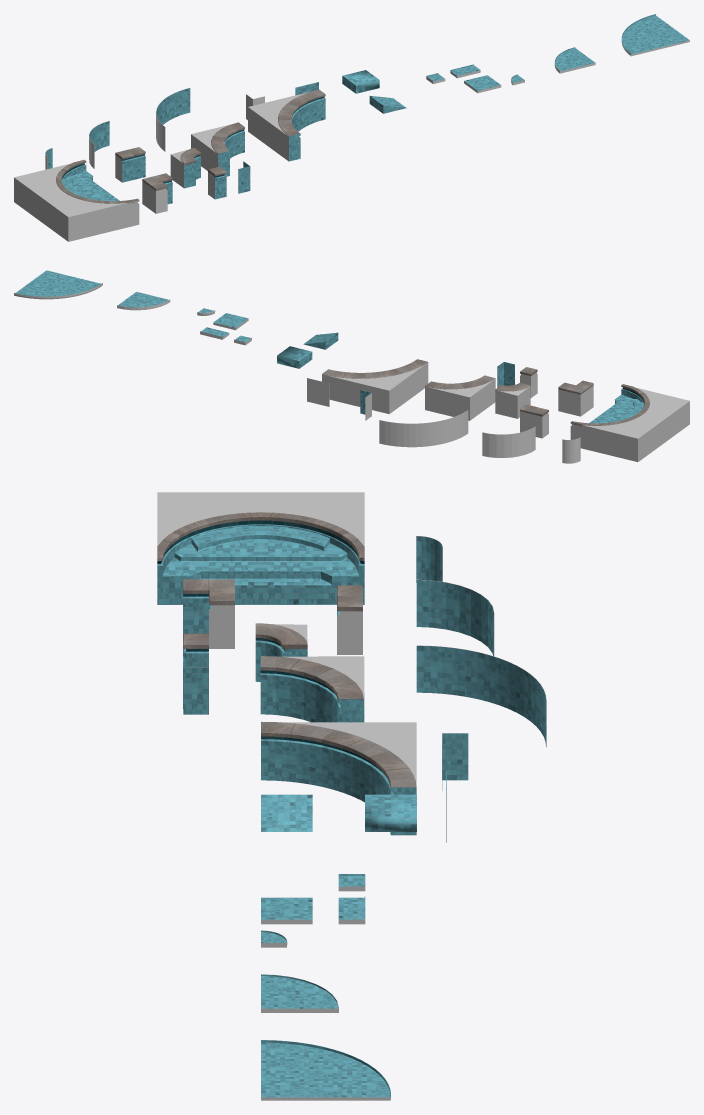
The model's file is mv_pool.fbx.
3 renders of one model, top to bottom at view 1: azimuth 30°, elevation 25°; view 2: azimuth 150°, elevation 25°; view 3: azimuth 270°, elevation 25°, orthographic. The views are drawn at different scales.
Visible parts, largest first — view 1: Swimming Pool Steps, pool corner top 3x3, pool corner bottom 3x3, pool corner top 3x3.001, Swimming Pool Steps Floor, pool corner top 2x2, pool corner side 3x3, Pool Corner Top, pool straight top, pool corner top 2x2.001, pool corner bottom 2x2, pool slide block (+6 smaller); view 2: Swimming Pool Steps, pool corner top 3x3.001, pool corner side 3x3, pool corner top 2x2.001, pool corner bottom 3x3, Swimming Pool Steps Floor, pool corner side 2x2, Pool Corner Top, pool corner top 1x1.001, pool straight top, pool corner top 3x3, pool corner bottom 2x2 (+9 smaller); view 3: Swimming Pool Steps Floor, pool corner top 3x3, pool corner bottom 3x3, pool corner side 3x3, Swimming Pool Steps, pool corner top 2x2, pool corner side 2x2, Pool Corner Top, pool corner bottom 2x2, pool corner top 3x3.001, pool slide, pool slide block (+8 smaller).
Part boxes in pixels (x1,y1,x2,y2): Swimming Pool Steps: (14, 163, 139, 241); pool corner top 3x3: (278, 89, 325, 161); pool corner bottom 3x3: (621, 14, 689, 56); pool corner top 3x3.001: (248, 92, 308, 161); Swimming Pool Steps Floor: (56, 159, 139, 203); pool corner top 2x2: (211, 122, 244, 176); pool corner side 3x3: (156, 88, 190, 151); Pool Corner Top: (142, 173, 172, 213); pool straight top: (115, 147, 145, 182); pool corner top 2x2.001: (191, 124, 229, 170); pool corner bottom 2x2: (554, 47, 595, 73); pool slide block: (342, 70, 379, 93); Swimming Pool Steps: (570, 387, 689, 461); pool corner top 3x3.001: (322, 362, 428, 414); pool corner side 3x3: (379, 410, 468, 447); pool corner top 2x2.001: (425, 379, 495, 420); pool corner bottom 3x3: (14, 270, 102, 299); Swimming Pool Steps Floor: (570, 384, 649, 426); pool corner side 2x2: (482, 426, 535, 457); Pool Corner Top: (558, 380, 593, 416); pool corner top 1x1.001: (495, 386, 530, 418); pool straight top: (520, 404, 548, 438); pool corner top 3x3: (322, 359, 427, 378); pool corner bottom 2x2: (117, 292, 170, 310); Swimming Pool Steps Floor: (157, 512, 364, 604); pool corner top 3x3: (261, 721, 416, 835); pool corner bottom 3x3: (261, 1040, 390, 1100); pool corner side 3x3: (416, 645, 546, 747); Swimming Pool Steps: (157, 492, 364, 546); pool corner top 2x2: (260, 656, 364, 722); pool corner side 2x2: (416, 579, 494, 656); Pool Corner Top: (183, 579, 234, 648); pool corner bottom 2x2: (261, 974, 338, 1012); pool corner top 3x3.001: (282, 722, 416, 786); pool slide: (261, 794, 312, 831); pool slide block: (365, 794, 416, 831).
Size of the model in its own units: 2750 by 133 by 751.
